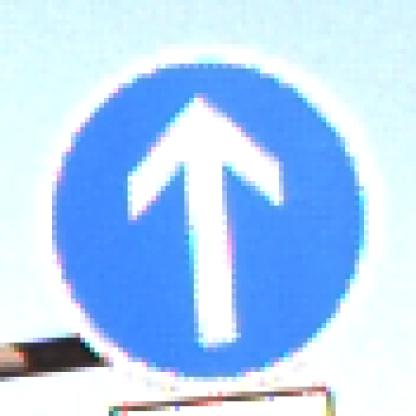AheadOnly: (39, 40, 384, 383)
